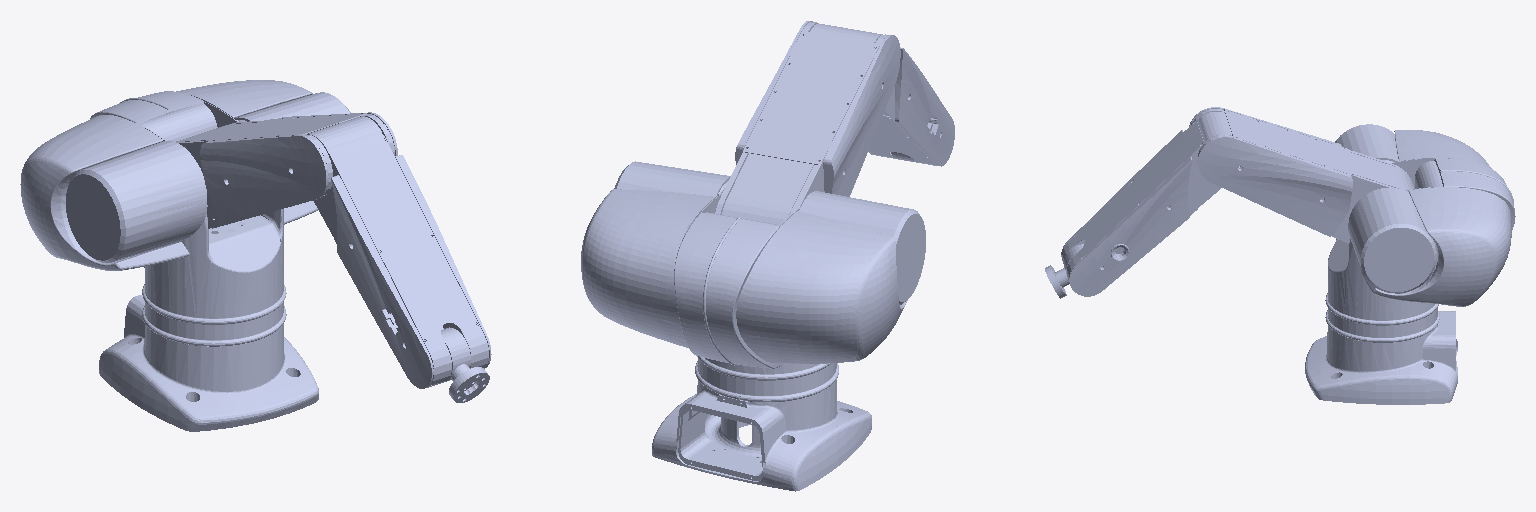
The robot description file, URDF, robot "Catalyst_model":
<?xml version="1.0" encoding="utf-8" ?>
<!-- This URDF was automatically created by SolidWorks to URDF Exporter! Originally created by [author] ([email redacted]) 
     Commit Version: 1.5.1-0-g916b5db  Build Version: 1.5.7152.31018
     For more information, please see http://wiki.ros.org/sw_urdf_exporter -->
<robot name="Catalyst_model">


    <link name="base_link">        
<inertial>
            <origin xyz="1.4366E-05 0.032001 -0.0036111" rpy="0 0 0" />
            <mass value="0.7754" />
            <inertia ixx="0.0030433" ixy="-1.7675E-07" ixz="9.851E-07" iyy="0.0049019" iyz="8.2834E-05" izz="0.0028993" />
        </inertial>

        <visual>
            <origin xyz="0 0 0" rpy="0 0 0" />
            <geometry>
                <mesh filename="package://Catalyst_model/meshes/base_link.STL" />
            </geometry>
            <material name="">
                <color rgba="0.79216 0.81961 0.93333 1" />
            </material>
        </visual>
        <collision>
            <origin xyz="0 0 0" rpy="0 0 0" />
            <geometry>
                <mesh filename="package://Catalyst_model/meshes/base_link.STL" />
            </geometry>
        </collision>
    </link>

 <link name="world"/>
  <joint name="fixed" type="fixed">
    <parent link="world"/>
    <child link="base_link"/>
  </joint>


    <link name="link_one">       
<inertial>
            <origin xyz="-0.00010208 0.15352 -0.064045" rpy="0 0 0" />
            <mass value="0.59657" />
            <inertia ixx="0.0026007" ixy="-6.7551E-08" ixz="-1.9538E-07" iyy="0.0021318" iyz="0.00027847" izz="0.0021414" />
        </inertial>

        <visual>
            <origin xyz="0 0 0" rpy="0 0 0" />
            <geometry>
                <mesh filename="package://Catalyst_model/meshes/link_one.STL" />
            </geometry>
            <material name="">
                <color rgba="0.79216 0.81961 0.93333 1" />
            </material>
        </visual>
        <collision>
            <origin xyz="0 0 0" rpy="0 0 0" />
            <geometry>
                <mesh filename="package://Catalyst_model/meshes/link_one.STL" />
            </geometry>
        </collision>
    </link>
    <joint name="joint_one" type="revolute">
        <origin xyz="0 0 0.084303" rpy="1.5708 0 0.13545" />
        <parent link="base_link" />
        <child link="link_one" />
        <axis xyz="0 1 0" />
        <limit lower="-3.1415" upper="3.1415" effort="9.6" velocity="210" />
    </joint>
    <link name="link_two">
        
<inertial>
            <origin xyz="5.3743E-05 0.088952 0.088364" rpy="0 0 0" />
            <mass value="0.46917" />
            <inertia ixx="0.0033549" ixy="-2.5511E-08" ixz="-1.3875E-08" iyy="0.0017138" iyz="-0.0013947" izz="0.0017032" />
        </inertial>

        <visual>
            <origin xyz="0 0 0" rpy="0 0 0" />
            <geometry>
                <mesh filename="package://Catalyst_model/meshes/link_two.STL" />
            </geometry>
            <material name="">
                <color rgba="0.79216 0.81961 0.93333 1" />
            </material>
        </visual>
        <collision>
            <origin xyz="0 0 0" rpy="0 0 0" />
            <geometry>
                <mesh filename="package://Catalyst_model/meshes/link_two.STL" />
            </geometry>
        </collision>
    </link>
    <joint name="joint_two" type="revolute">
        <origin xyz="0 0.16899 0" rpy="0.33563 0 0" />
        <parent link="link_one" />
        <child link="link_two" />
        <axis xyz="1 0 0" />
        <limit lower="-0.45" upper="0.65" effort="9.6" velocity="210" />
    </joint>
    <link name="link_three">
        
<inertial>
            <origin xyz="0.00019695 -0.090954 0.093868" rpy="0 0 0" />
            <mass value="0.27264" />
            <inertia ixx="0.0017294" ixy="6.9843E-08" ixz="-5.8994E-08" iyy="0.0008437" iyz="0.00075643" izz="0.00092514" />
        </inertial>

        <visual>
            <origin xyz="0 0 0" rpy="0 0 0" />
            <geometry>
                <mesh filename="package://Catalyst_model/meshes/link_three.STL" />
            </geometry>
            <material name="">
                <color rgba="0.79216 0.81961 0.93333 1" />
            </material>
        </visual>
        <collision>
            <origin xyz="0 0 0" rpy="0 0 0" />
            <geometry>
                <mesh filename="package://Catalyst_model/meshes/link_three.STL" />
            </geometry>
        </collision>
    </link>
    <joint name="joint_three" type="revolute">
        <origin xyz="0 0.1796 0.1796" rpy="-0.37827 0 0" />
        <parent link="link_two" />
        <child link="link_three" />
        <axis xyz="1 0 0" />
        <limit lower="-2.1815" upper="0.95" effort="9.6" velocity="210" />
    </joint>
    <link name="link_four">
        
<inertial>
            <origin xyz="-2.505E-05 0.0010929 -2.1319E-09" rpy="0 0 0" />
            <mass value="0.067274" />
            <inertia ixx="2.3072E-05" ixy="9.2584E-09" ixz="1.0641E-11" iyy="1.9164E-05" iyz="-5.4005E-12" izz="1.7484E-05" />
        </inertial>

        <visual>
            <origin xyz="0 0 0" rpy="0 0 0" />
            <geometry>
                <mesh filename="package://Catalyst_model/meshes/link_four.STL" />
            </geometry>
            <material name="">
                <color rgba="0.79216 0.81961 0.93333 1" />
            </material>
        </visual>
        <collision>
            <origin xyz="0 0 0" rpy="0 0 0" />
            <geometry>
                <mesh filename="package://Catalyst_model/meshes/link_four.STL" />
            </geometry>
        </collision>
    </link>
    <joint name="joint_four" type="revolute">
        <origin xyz="0 -0.17961 0.17961" rpy="-1.0515 0 0" />
        <parent link="link_three" />
        <child link="link_four" />
        <axis xyz="1 0 0" />
        <limit lower="-1.65" upper="1.9198" effort="3.4" velocity="551" />
    </joint>
    <link name="link_five">
        
<inertial>
            <origin xyz="1.1102E-16 -0.018145 8.3267E-16" rpy="0 0 0" />
            <mass value="0.0204" />
            <inertia ixx="3.5666E-06" ixy="-7.8965E-19" ixz="4.9578E-20" iyy="4.5325E-06" iyz="-6.4057E-21" izz="3.6708E-06" />
        </inertial>

        <visual>
            <origin xyz="0 0 0" rpy="0 0 0" />
            <geometry>
                <mesh filename="package://Catalyst_model/meshes/link_five.STL" />
            </geometry>
            <material name="">
                <color rgba="0.79216 0.81961 0.93333 1" />
            </material>
        </visual>
        <collision>
            <origin xyz="0 0 0" rpy="0 0 0" />
            <geometry>
                <mesh filename="package://Catalyst_model/meshes/link_five.STL" />
            </geometry>
        </collision>
    </link>
    <joint name="joint_five" type="revolute">
        <origin xyz="0 -0.022626 0" rpy="0 0.91104 0" />
        <parent link="link_four" />
        <child link="link_five" />
        <axis xyz="0 1 0" />
        <limit lower="-3.1415" upper="3.1415" effort="1.7" velocity="1102" />
    </joint>
    

    <transmission name="trans_joint_one">
        <type>transmission_interface/SimpleTransmission</type>
        <joint name="joint_one">
            <hardwareInterface>hardware_interface/VelocityJointInterface</hardwareInterface>
        </joint>
        <actuator name="joint_one_motor">
            <hardwareInterface>hardware_interface/VelocityJointInterface</hardwareInterface>
            <mechanicalReduction>1</mechanicalReduction>
        </actuator>
    </transmission>
    <transmission name="trans_joint_two">
        <type>transmission_interface/SimpleTransmission</type>
        <joint name="joint_two">
            <hardwareInterface>hardware_interface/VelocityJointInterface</hardwareInterface>
        </joint>
        <actuator name="joint_two_motor">
            <hardwareInterface>hardware_interface/VelocityJointInterface</hardwareInterface>
            <mechanicalReduction>1</mechanicalReduction>
        </actuator>
    </transmission>
    <transmission name="trans_joint_three">
        <type>transmission_interface/SimpleTransmission</type>
        <joint name="joint_three">
            <hardwareInterface>hardware_interface/VelocityJointInterface</hardwareInterface>
        </joint>
        <actuator name="joint_three_motor">
            <hardwareInterface>hardware_interface/VelocityJointInterface</hardwareInterface>
            <mechanicalReduction>1</mechanicalReduction>
        </actuator>
    </transmission>
    <transmission name="trans_joint_four">
        <type>transmission_interface/SimpleTransmission</type>
        <joint name="joint_four">
            <hardwareInterface>hardware_interface/VelocityJointInterface</hardwareInterface>
        </joint>
        <actuator name="joint_four_motor">
            <hardwareInterface>hardware_interface/VelocityJointInterface</hardwareInterface>
            <mechanicalReduction>1</mechanicalReduction>
        </actuator>
    </transmission>
    <transmission name="trans_joint_five">
        <type>transmission_interface/SimpleTransmission</type>
        <joint name="joint_five">
            <hardwareInterface>hardware_interface/VelocityJointInterface</hardwareInterface>
        </joint>
        <actuator name="joint_five_motor">
            <hardwareInterface>hardware_interface/VelocityJointInterface</hardwareInterface>
            <mechanicalReduction>1</mechanicalReduction>
        </actuator>
    </transmission>
    <gazebo>
        <plugin name="gazebo_ros_control" filename="libgazebo_ros_control.so">
            <robotNamespace>/</robotNamespace>
        </plugin>
    </gazebo>
</robot>

--- What the picture shows (computed from the rendered views, not written in the file) ---
Views: 3 orthographic renders of the robot side by side, from view 1: azimuth 30°, elevation 25°; view 2: azimuth 150°, elevation 25°; view 3: azimuth 270°, elevation 25°.
Robot: Catalyst_model — 7 links, 6 joints (5 revolute, 1 fixed); root link world; default pose: all joints at 0.
Visible links, largest first — view 1: link_one, link_three, base_link, link_two, link_five, link_four; view 2: link_one, link_two, base_link, link_three; view 3: link_one, link_two, link_three, base_link.
Boxes of the visible links, x1,y1,x2,y2 form: link_one: (20,80,350,346); link_three: (307,116,491,388); base_link: (99,295,318,431); link_two: (176,112,397,228); link_five: (449,364,489,402); link_four: (441,327,470,381); link_one: (581,161,925,401); link_two: (715,21,900,224); base_link: (652,379,871,491); link_three: (810,23,954,166); link_one: (1325,124,1515,342); link_two: (1189,107,1414,243); link_three: (1061,112,1231,296); base_link: (1305,311,1457,404).
Size in the robot's own frame: 0.3632 by 0.6519 by 0.4001 metres.
6 mesh visuals loaded from 6 distinct referenced files (6 binary STL).